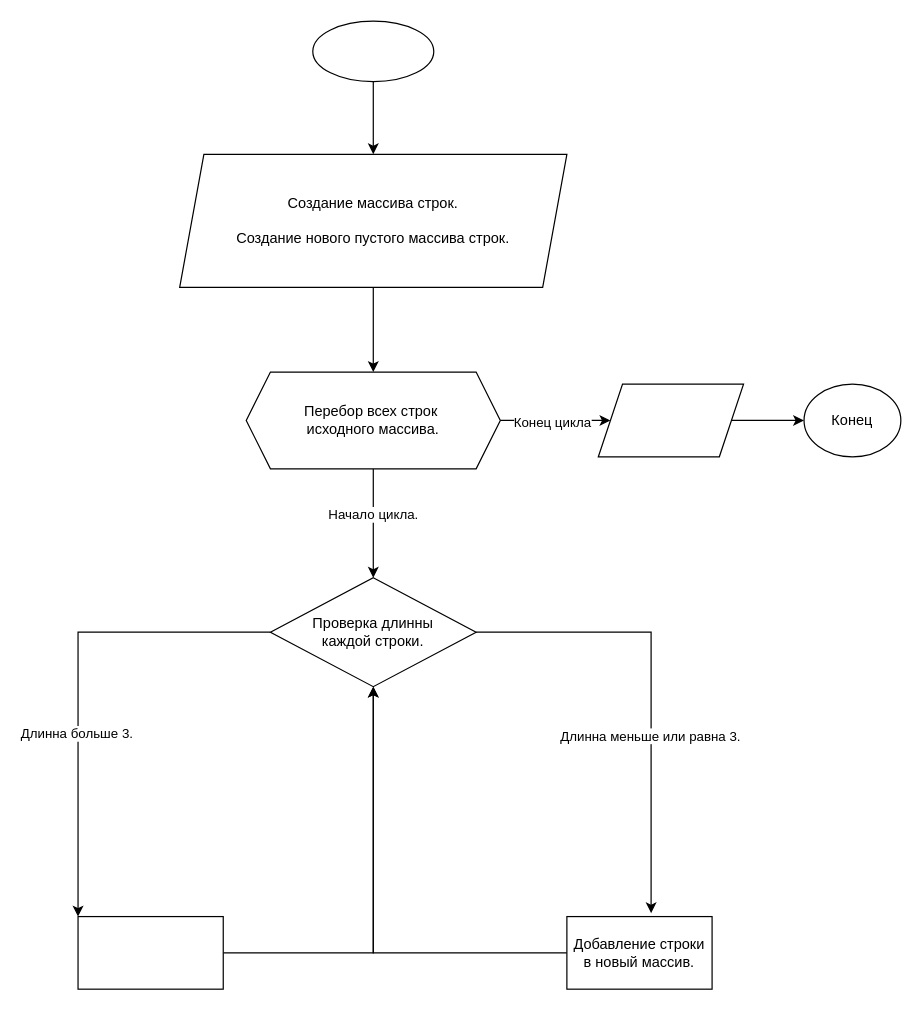
The diagram is 923 pixels wide and 1010 high, and some of its shapes have lost their labels. The shapes that lost their labels are listed below. From the top down, each one's centre as x and y in pixels, then its label:
the point at 373,51: Начало
the point at 670,420: Вывод нового массива.
the point at 150,952: Переход к следующей строке в массиве.
